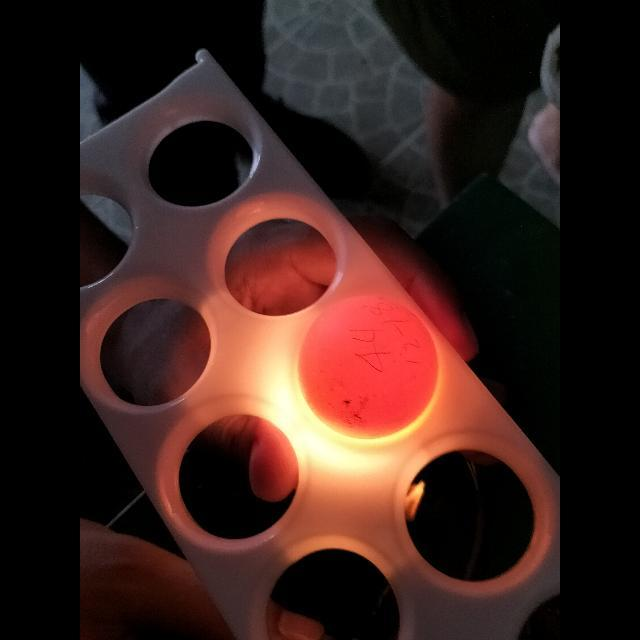Infertile: (298, 296, 438, 442)
